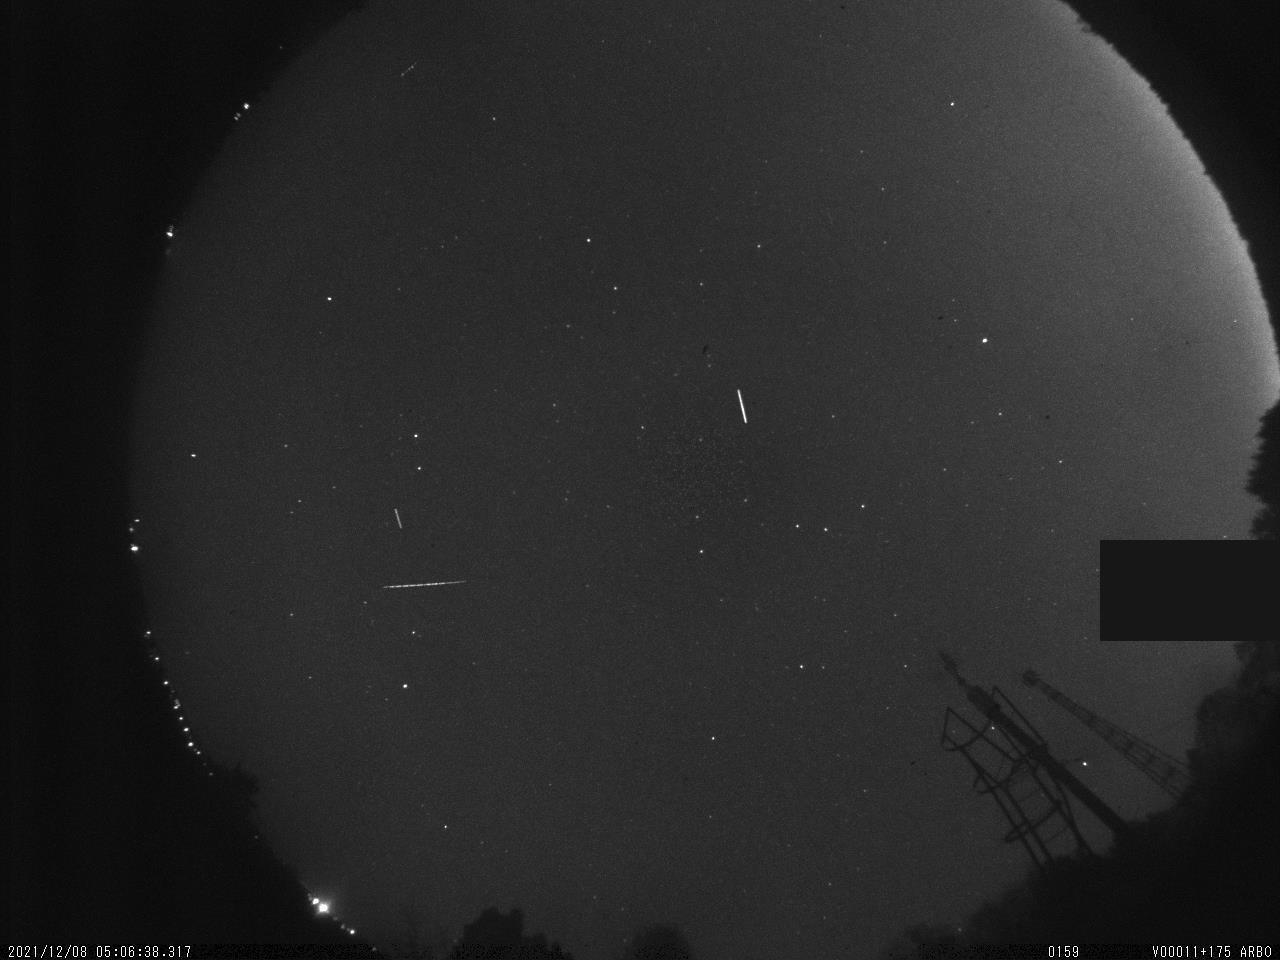meteor: (377, 575, 473, 597)
satelite: (732, 383, 756, 431), (389, 503, 407, 536)
